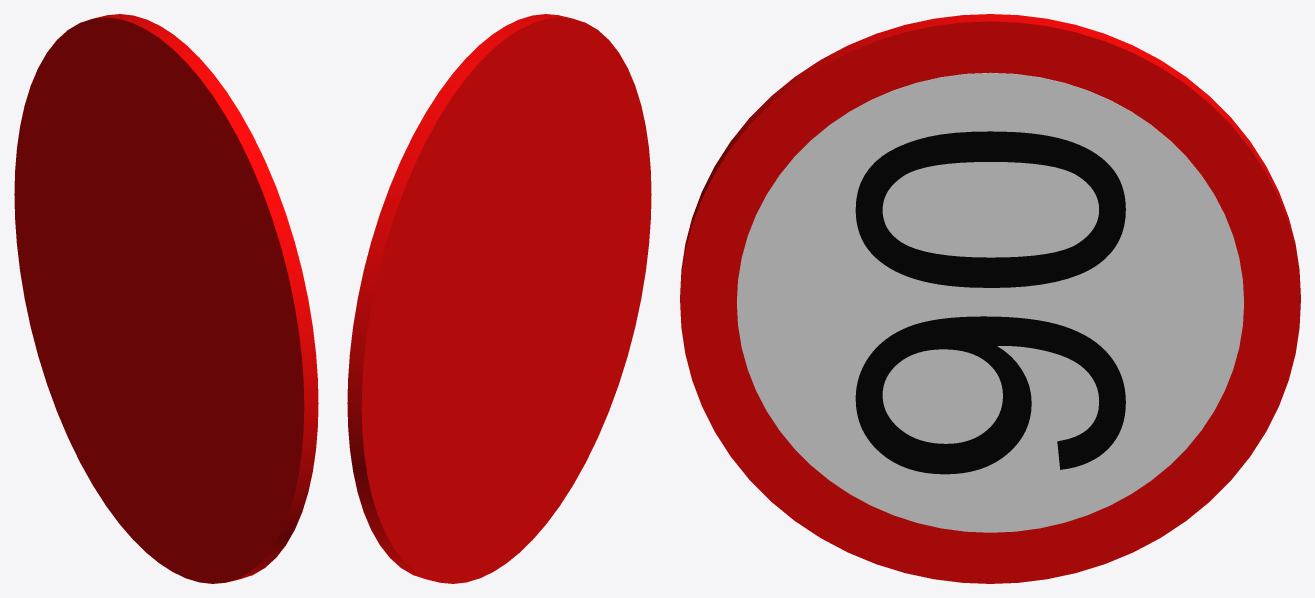
3 renders of one model, left to right at view 1: azimuth 30°, elevation 25°; view 2: azimuth 150°, elevation 25°; view 3: azimuth 270°, elevation 25°, orthographic. The views are drawn at different scales.
Visible parts, largest first — view 1: 限速90; view 2: 限速90; view 3: 限速90.
Boxes of the visible parts, x1=… form: 限速90: x1=14, y1=14, x2=318, y2=583; 限速90: x1=347, y1=14, x2=651, y2=583; 限速90: x1=680, y1=14, x2=1300, y2=583.
Bounding box in the file's own units: 0.023 × 0.7737 × 0.7737.
